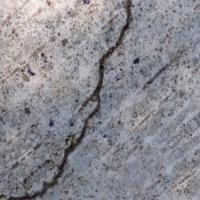crack: (26, 1, 137, 199)
